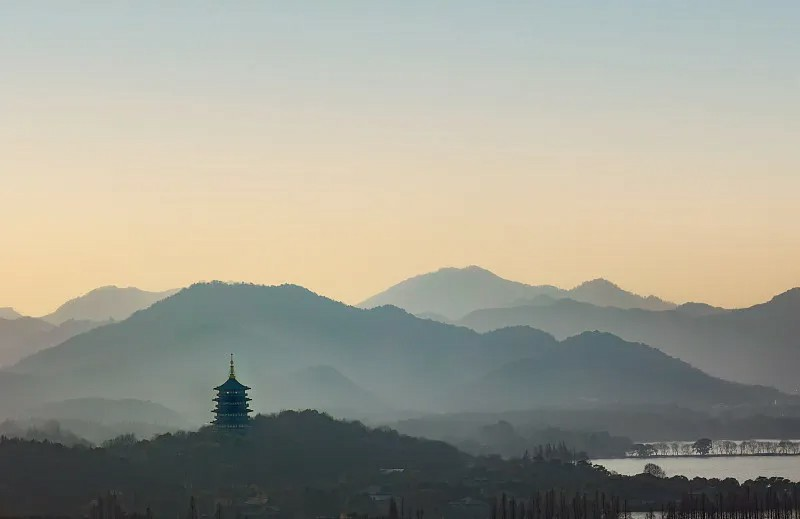Leifeng: (208, 351, 254, 433)
